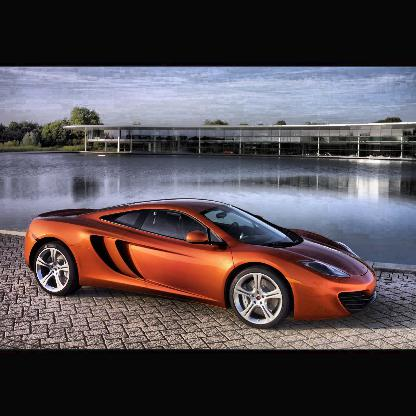McLaren MP4-12C Coupe 2012: (25, 199, 376, 332)
